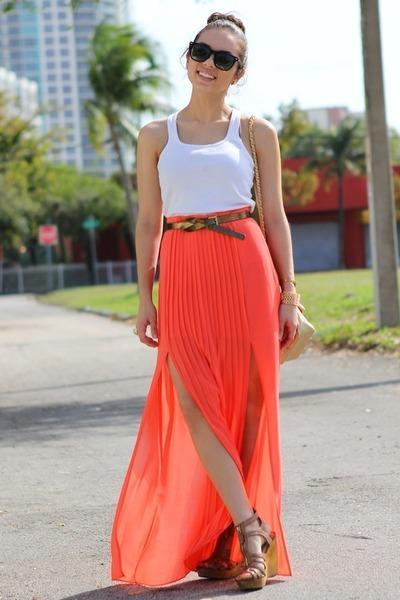bag: (274, 328, 299, 364)
shirt: (156, 102, 254, 227)
shoe: (190, 508, 269, 594)
skirt: (111, 218, 291, 587)
sunglass: (187, 36, 245, 74)
